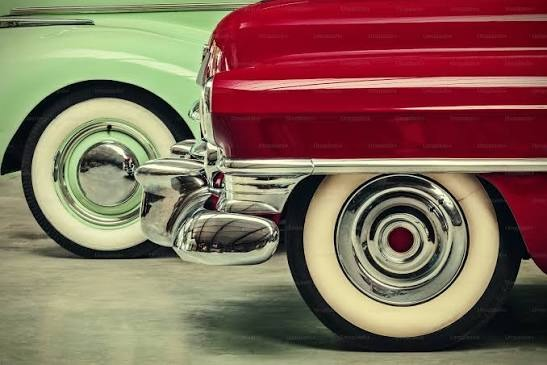car: (1, 1, 500, 311), (166, 1, 543, 343), (1, 1, 321, 262), (1, 1, 307, 261)
